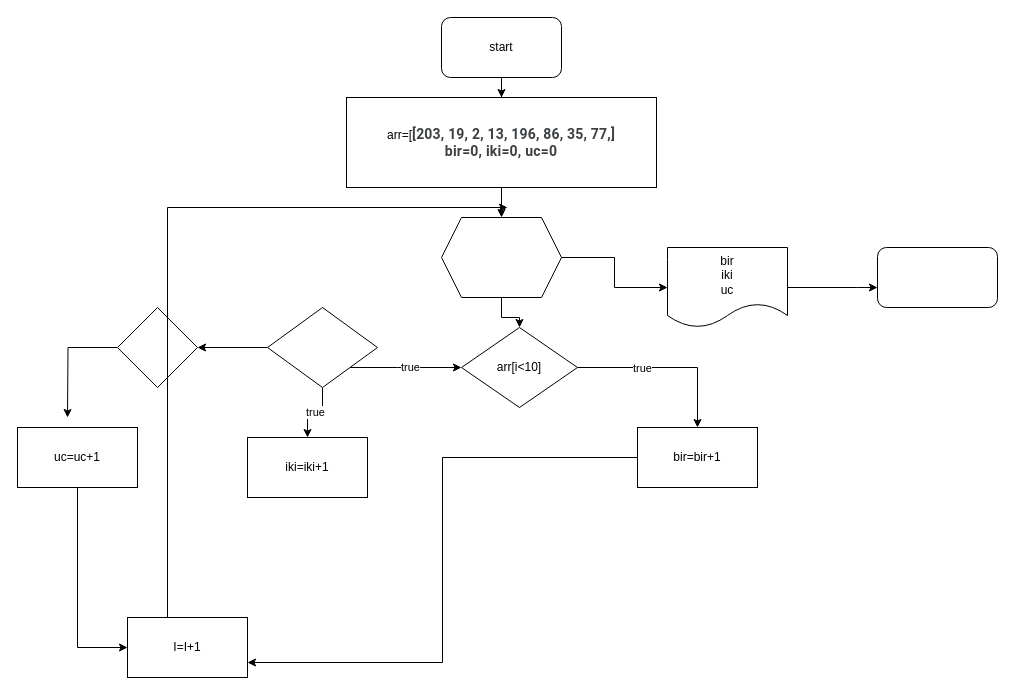
Image size: 1015x695. Some labels were removed from this diagram. The centre of each missing label's shape, as x and y in pixels:
arr[i]>=10 && arr[i]<100: (322,347)
arr[i]>=100: (157,347)
end: (937,277)
I<arr.length: (501,257)
